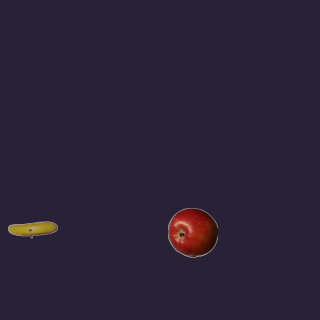Apple Braeburn: (167, 207, 217, 257)
Banana: (7, 204, 57, 254)
